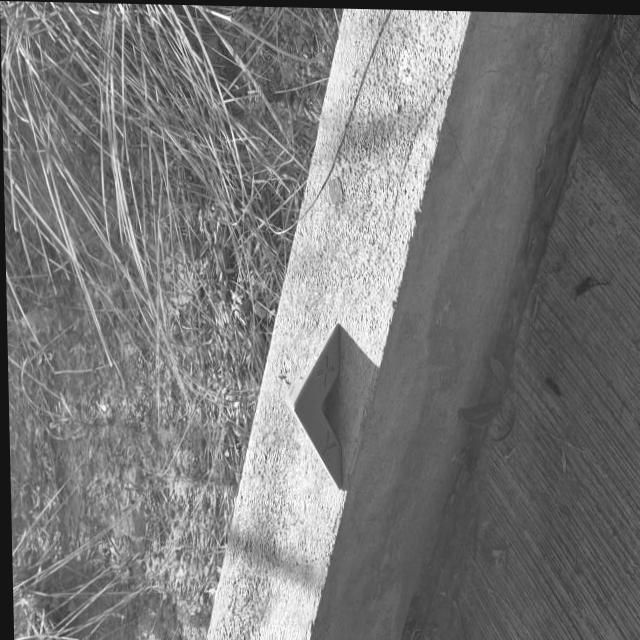eje: (281, 320, 344, 491)
